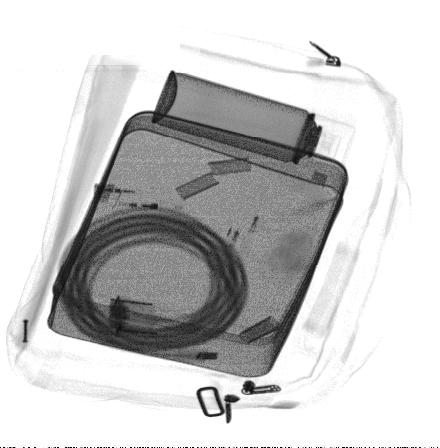Lighter: (95, 183, 187, 219)
Sprayer: (152, 70, 356, 176)
